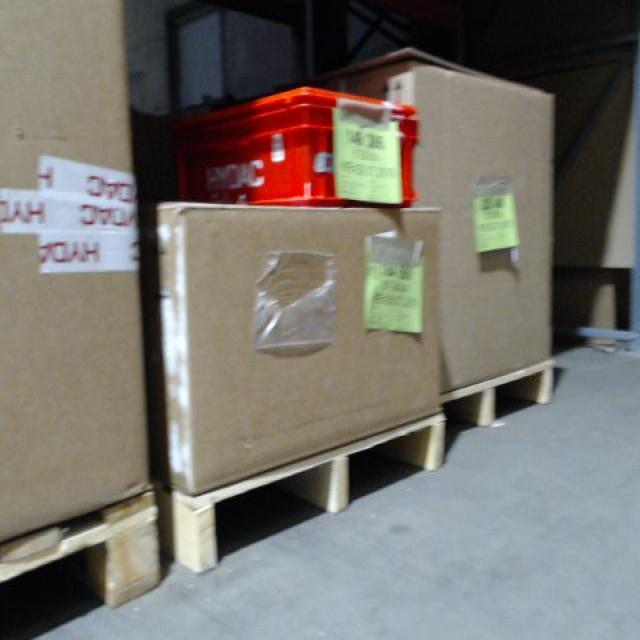pallet: (163, 420, 446, 571), (1, 491, 164, 640), (439, 361, 558, 452)
small_load_carrier: (144, 90, 425, 212)
